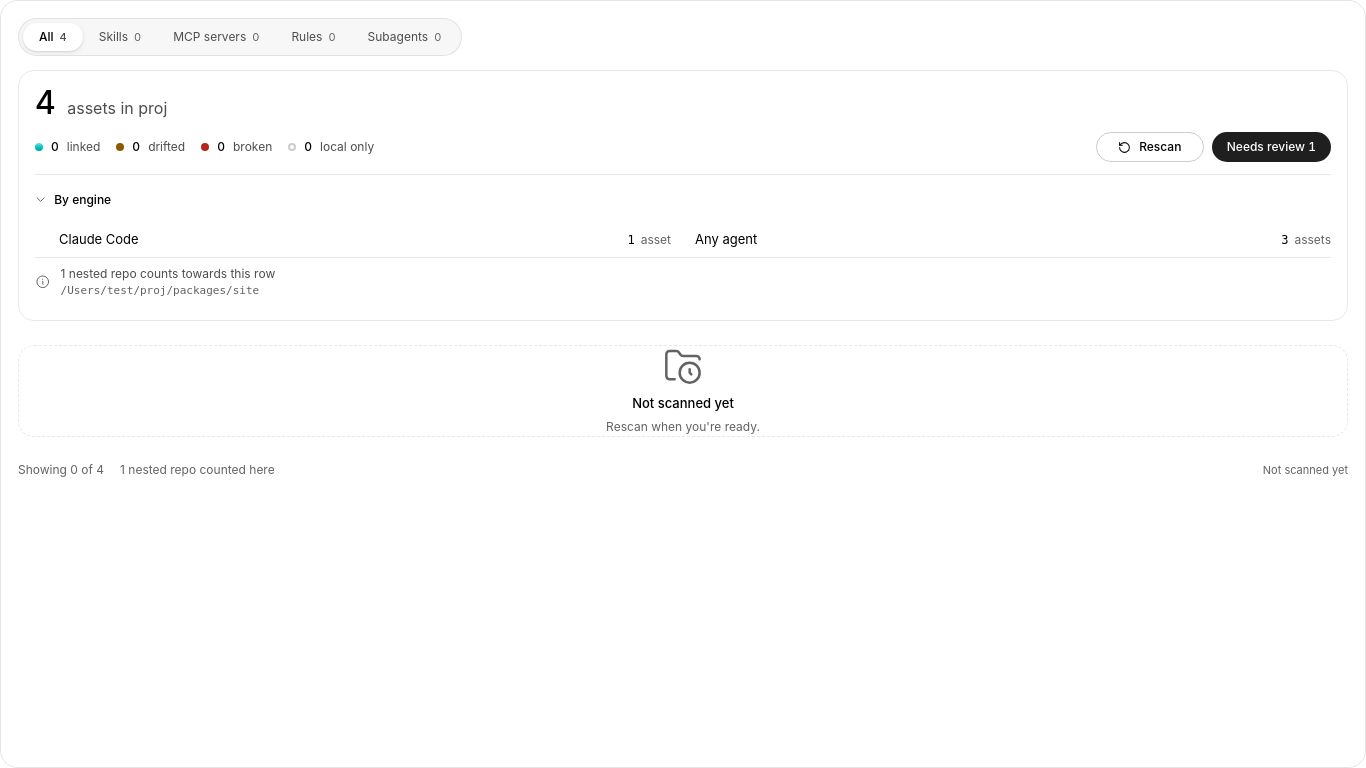
it: RepoPane hero band and pill › a scan warning with no issues behind it: the popover discloses, and offers nowhere to go
Click the text "Needs review 1". click: (1271, 147)
box: [1227,138,1316,156]
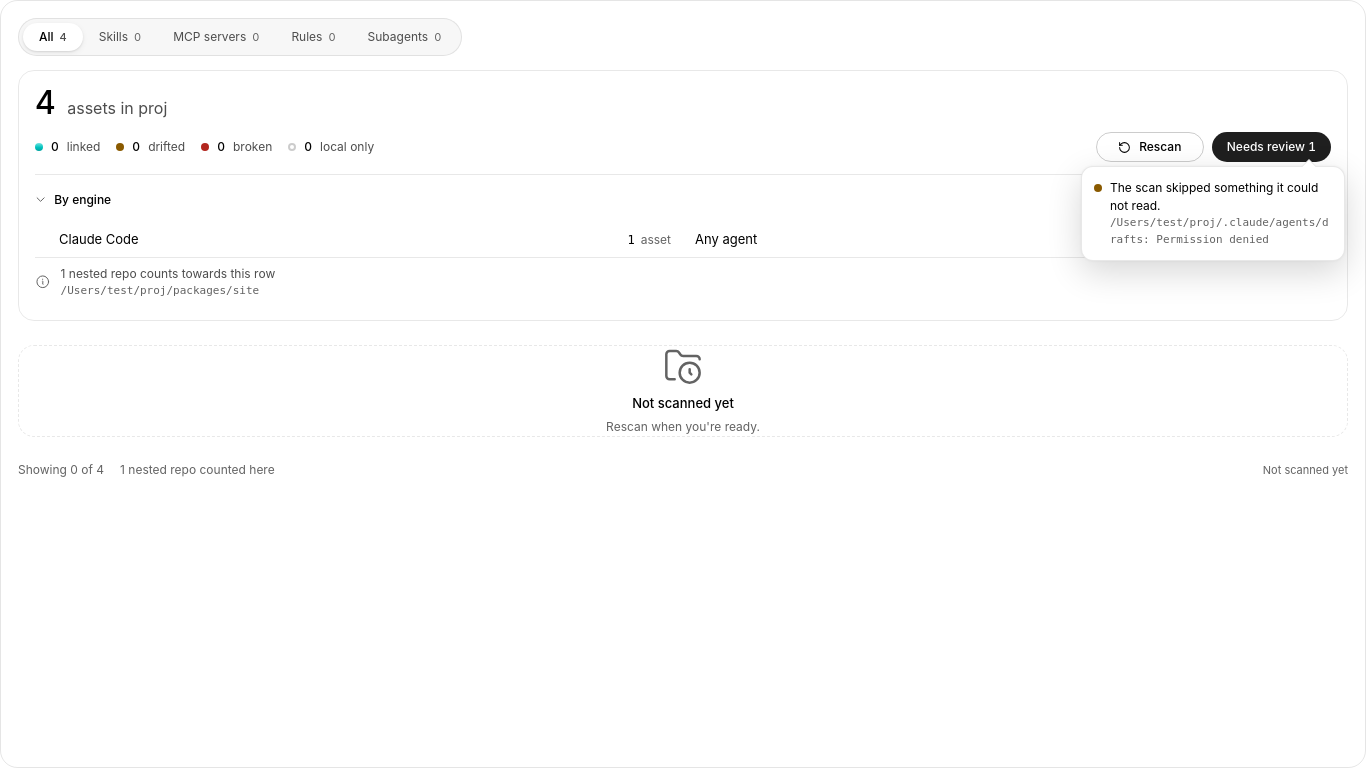
Result: the list item with test id "finding-popover-line" shows "The scan skipped something it could not read." at [1110,180,1318,213]
